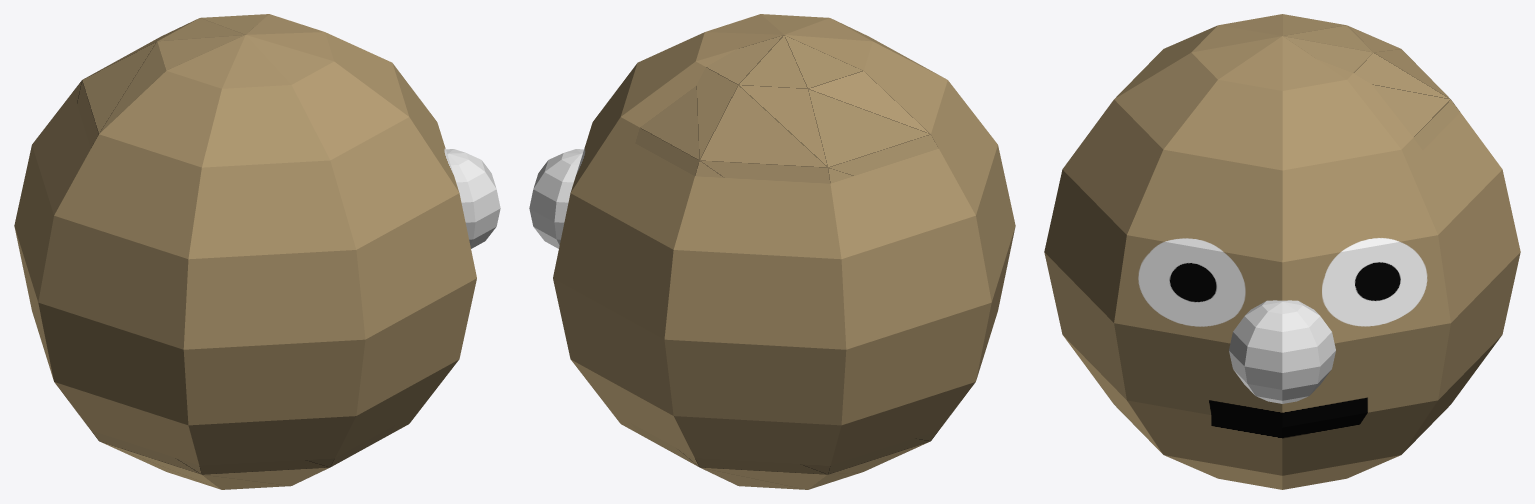
The model's file is dad.fbx.
3 views of the same model, side by side, from view 1: azimuth 30°, elevation 25°; view 2: azimuth 150°, elevation 25°; view 3: azimuth 270°, elevation 25° (orthographic).
Parts seen in each view (by area): view 1: Sphere, Sphere.001; view 2: Sphere, Sphere.001; view 3: Sphere, Sphere.001.
Boxes of the visible parts, box(x1,y1,x2,y2) form: Sphere: box(14, 14, 476, 489); Sphere.001: box(446, 149, 500, 248); Sphere: box(553, 14, 1015, 489); Sphere.001: box(529, 149, 583, 248); Sphere: box(1044, 14, 1520, 489); Sphere.001: box(1229, 300, 1335, 403).
Bounding box in the file's own units: 220 × 200 × 200.
